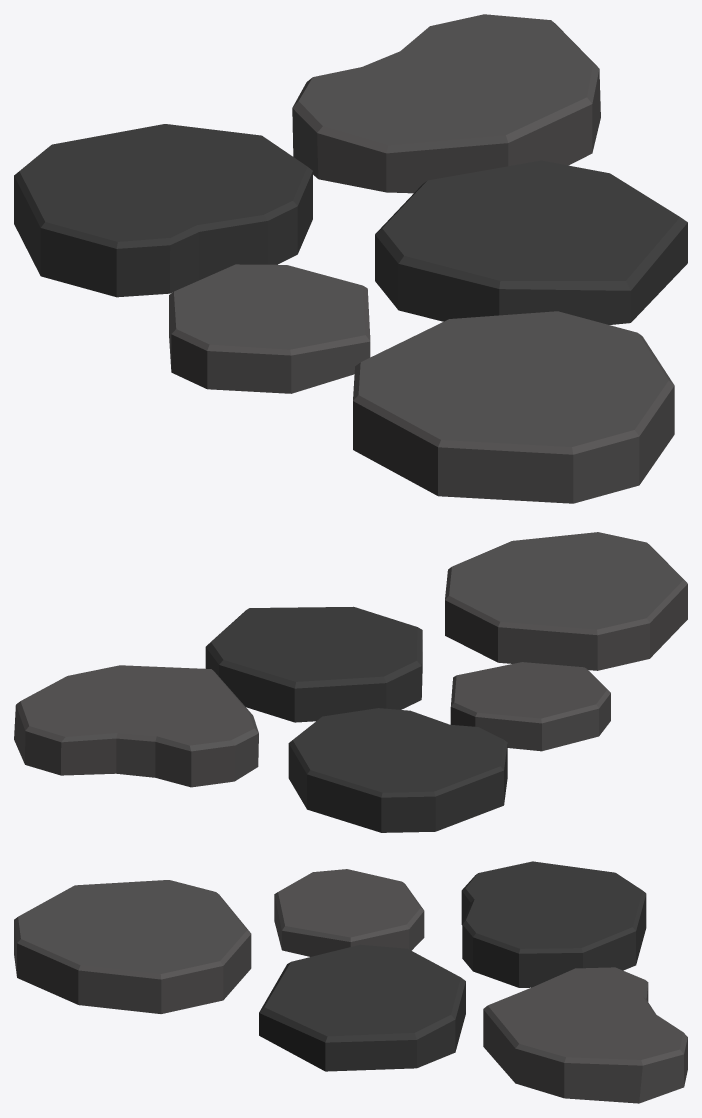
File: StonePavement_1.fbx
3 views of the same model, one above another, from view 1: azimuth 30°, elevation 25°; view 2: azimuth 150°, elevation 25°; view 3: azimuth 270°, elevation 25° (orthographic). The views are drawn at different scales.
Parts seen in each view (by area): view 1: StonePavement_1; view 2: StonePavement_1; view 3: StonePavement_1.
Part boxes in pixels (bbox=[...]): StonePavement_1: bbox=[14, 14, 687, 503]; StonePavement_1: bbox=[14, 532, 687, 832]; StonePavement_1: bbox=[14, 861, 687, 1103].
Bounding box in the file's own units: 97.5 × 9.45 × 135.
